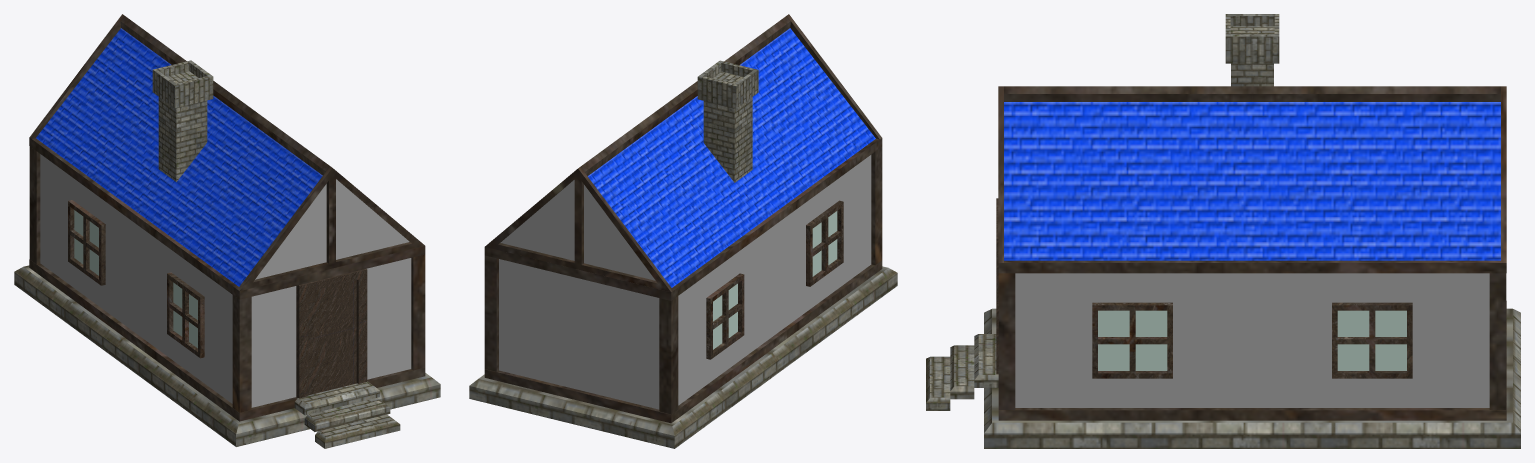
File: houseModel1.fbx
The picture shows the model from 3 angles, left to right: view 1: azimuth 30°, elevation 25°; view 2: azimuth 150°, elevation 25°; view 3: azimuth 270°, elevation 25°; orthographic projection. The views are drawn at different scales.
Parts seen in each view (by area): view 1: Cube.006; view 2: Cube.006; view 3: Cube.006.
Part boxes in pixels (x1,y1,x2,y2): Cube.006: (14,14,440,448); Cube.006: (469,14,897,448); Cube.006: (926,14,1520,448).
Bounding box in the file's own units: 2.3 × 2.99 × 4.79.
